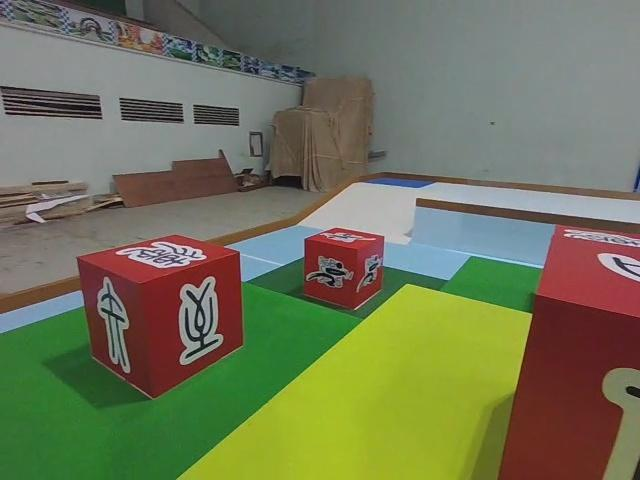R1: (301, 227, 385, 311)
R2 Fake: (73, 235, 245, 401)
